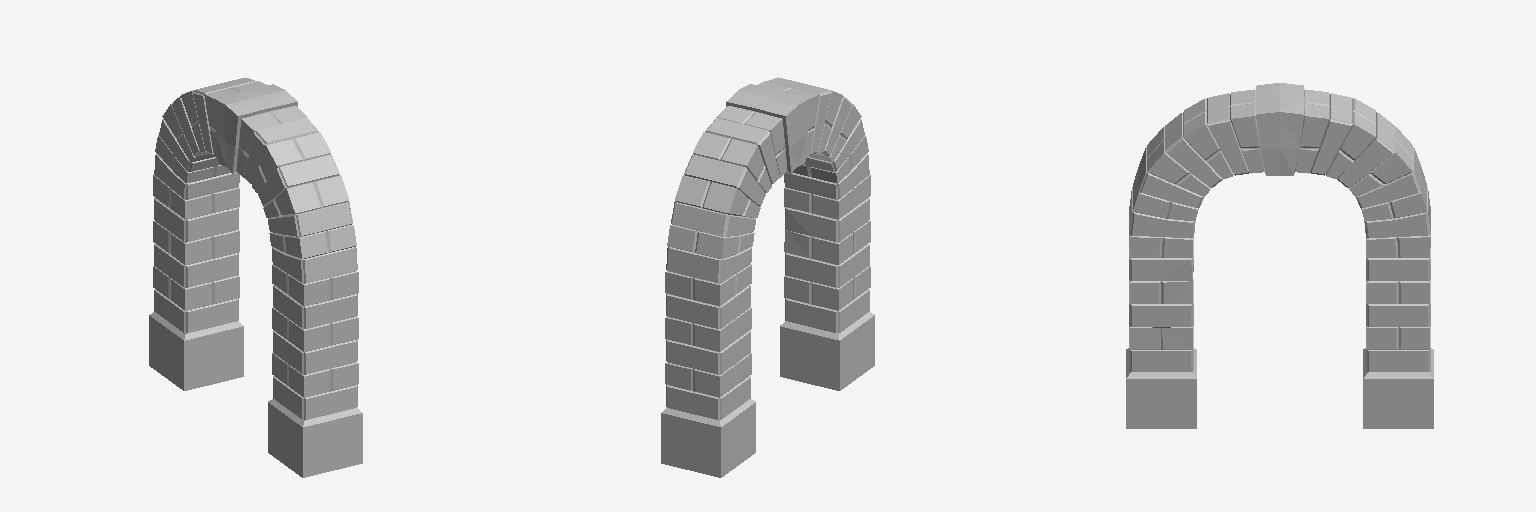
The model's file is arkBlender.obj.
The picture shows the model from 3 angles: view 1: azimuth 30°, elevation 25°; view 2: azimuth 150°, elevation 25°; view 3: azimuth 270°, elevation 25°; orthographic projection.
Parts seen in each view (by area): view 1: Box001; view 2: Box001; view 3: Box001.
Boxes of the visible parts, x1=… form: Box001: x1=149, y1=77, x2=362, y2=477; Box001: x1=661, y1=77, x2=874, y2=477; Box001: x1=1126, y1=83, x2=1433, y2=428.
Size of the model in its own units: 1.38 by 6.76 by 5.93.